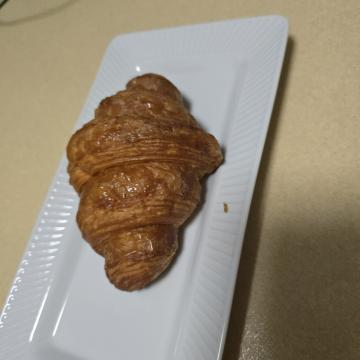croissant: (56, 130, 300, 300)
